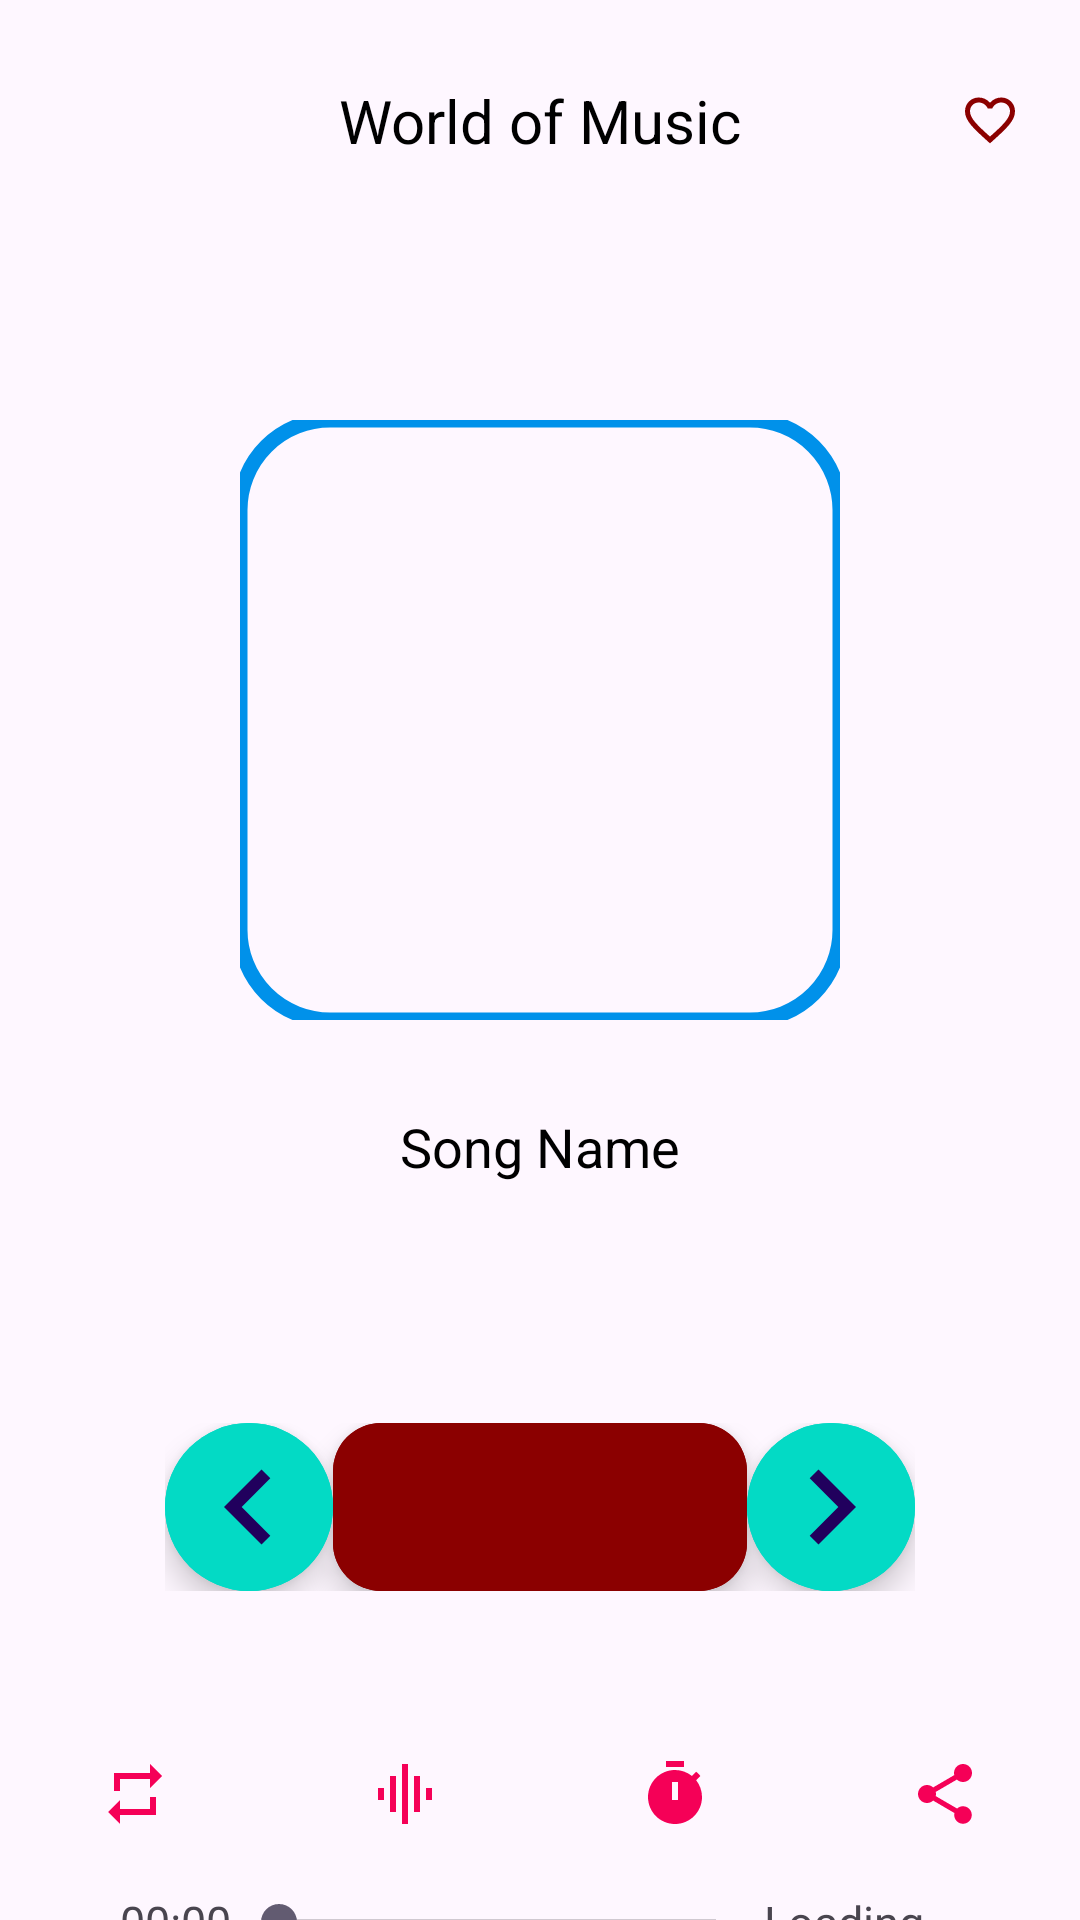

Where to tap for icons on this 1080 × 1920 app screen, as (x,y):
favorite border: (990,120)
graphic: (405,1794)
navgate before: (249,1507)
next: (831,1507)
repeat: (135,1794)
share: (945,1794)
timer: (675,1792)
